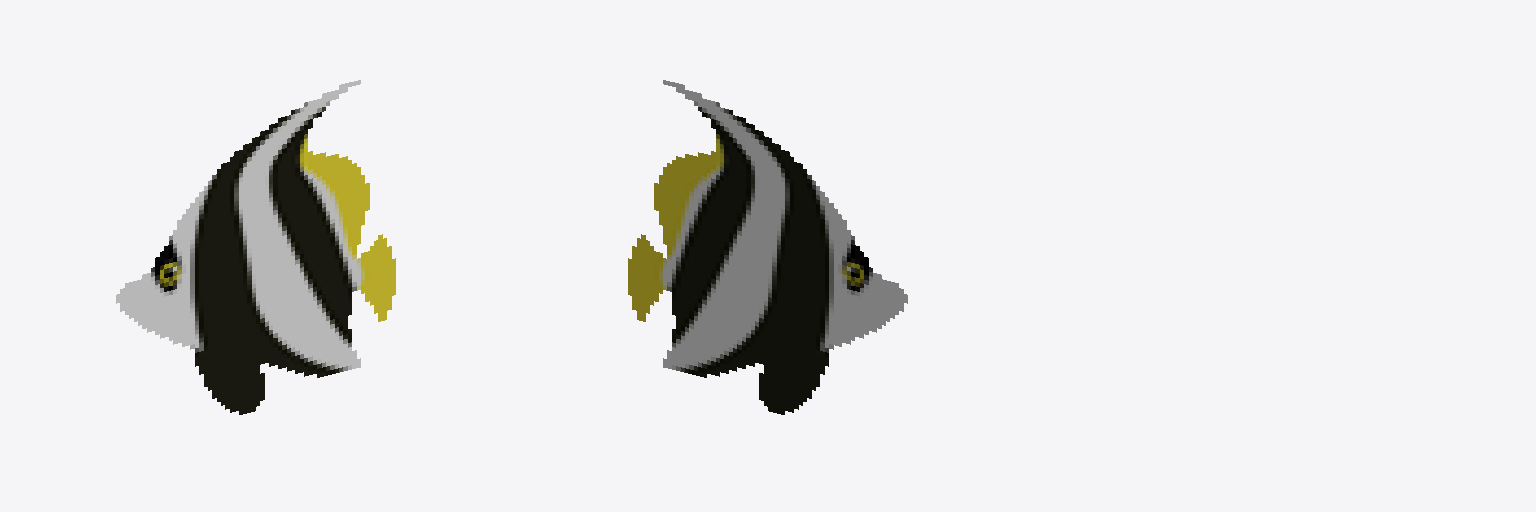
3 views of the same model, side by side, from view 1: azimuth 30°, elevation 25°; view 2: azimuth 150°, elevation 25°; view 3: azimuth 270°, elevation 25° (orthographic).
Visible parts, largest first — view 1: 平面; view 2: 平面; view 3: none.
Part boxes in pixels (bbox=[...]): 平面: bbox=[116, 80, 395, 414]; 平面: bbox=[628, 80, 907, 414].
Size of the model in its own units: 2 by 2.12 by 0.
Materials: 1 (1 with a texture image).